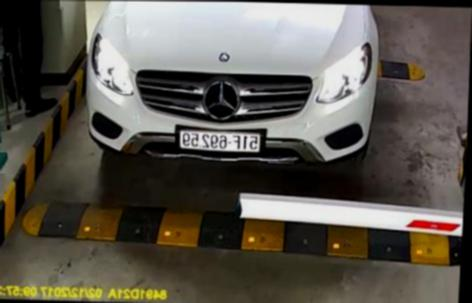License_Plate: (174, 129, 263, 155)
